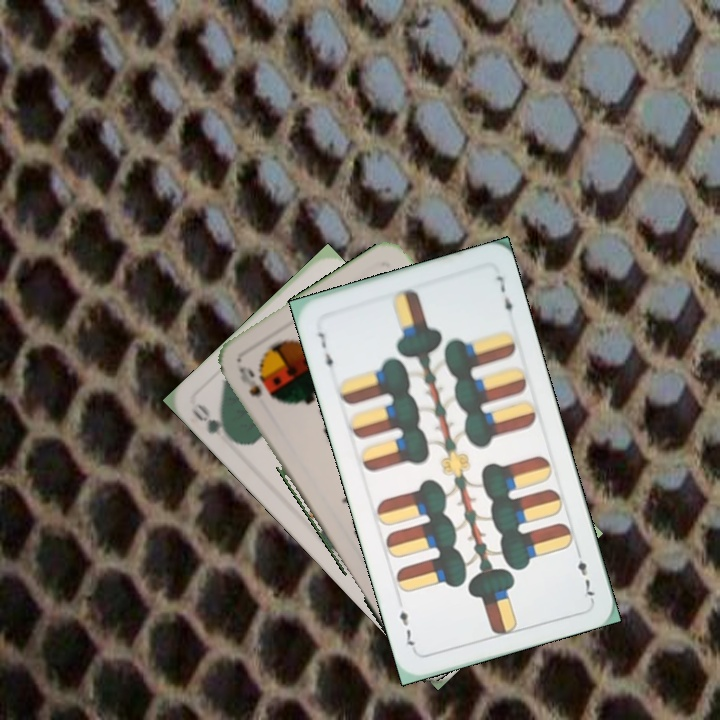E7: (571, 544, 597, 602), (313, 327, 336, 377)
GO: (188, 400, 241, 451)
SO: (235, 362, 265, 400)
